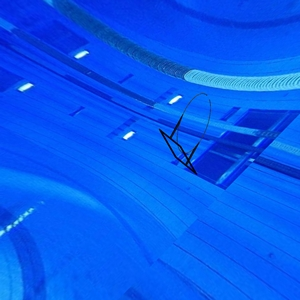circle: (158, 92, 212, 177)
